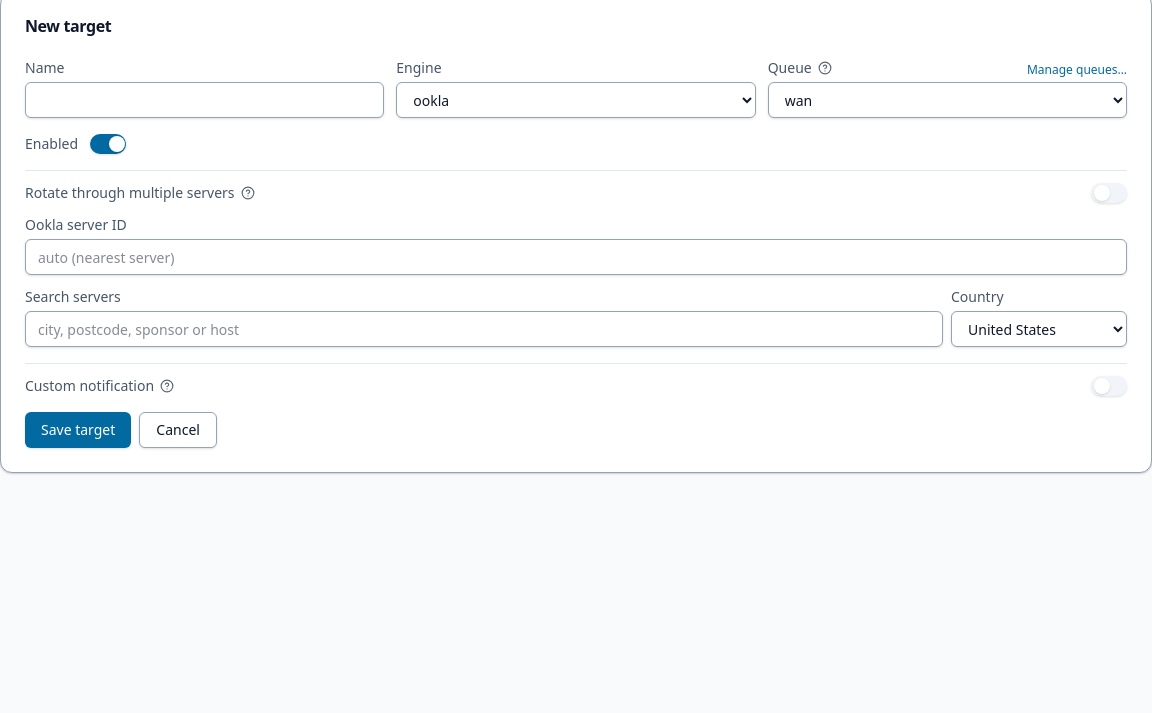
Test case: TargetForm › rejects a negative SLA plan override
Type "Home" into the field labelled "Name" at {"x": 205, "y": 100}, box x1=25 y1=82 x2=384 y2=118
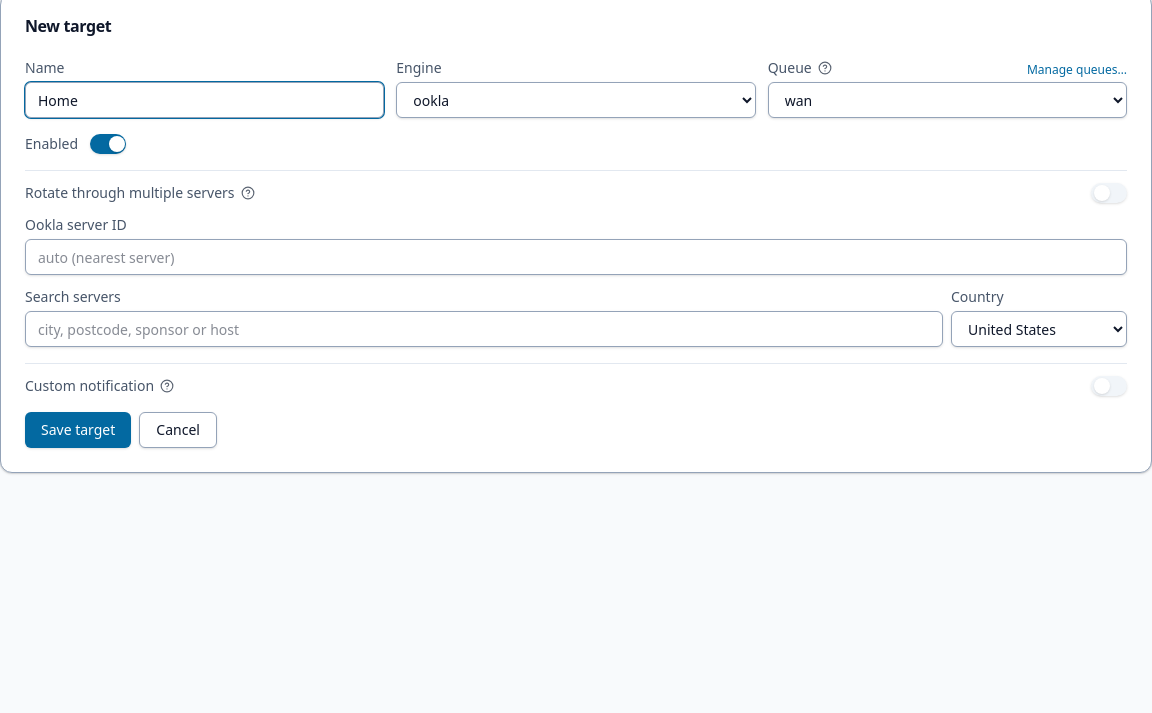
Click the switch named "Custom notification" in the row of "Custom notification" at {"x": 1109, "y": 386}, box x1=1091 y1=376 x2=1127 y2=396
(page scrolled)
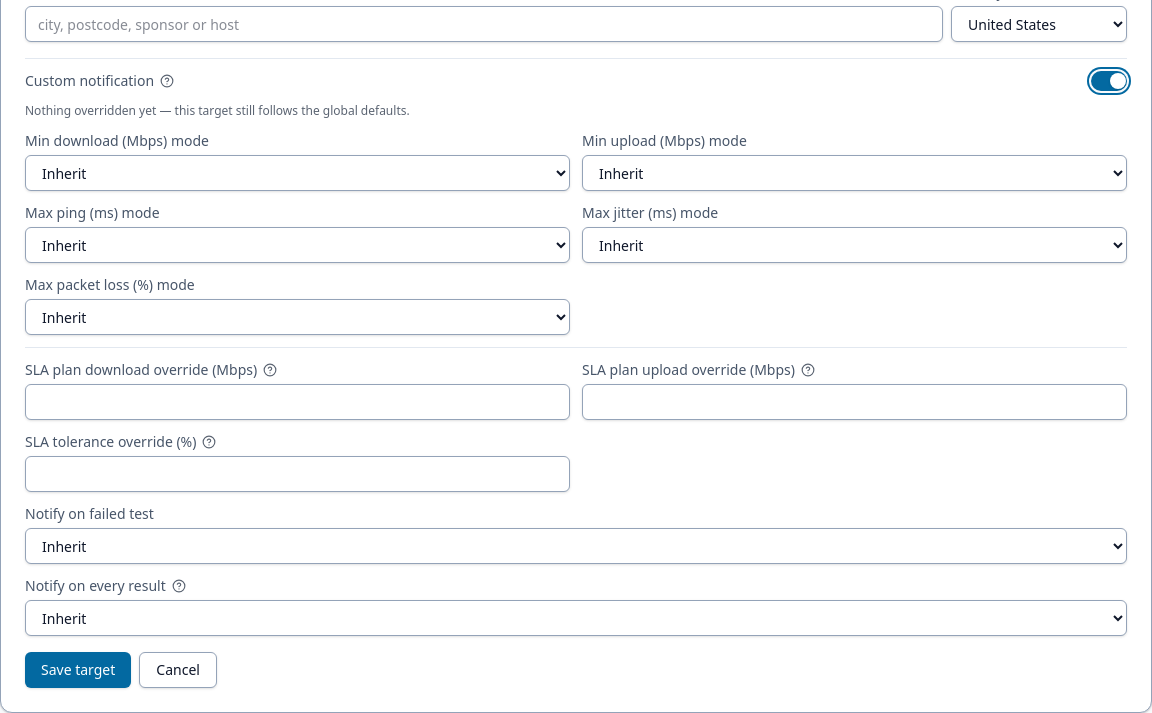
Type "-1" into the number field labelled "SLA plan upload override (Mbps)" at {"x": 854, "y": 402}, box x1=582 y1=384 x2=1127 y2=420
(page scrolled)
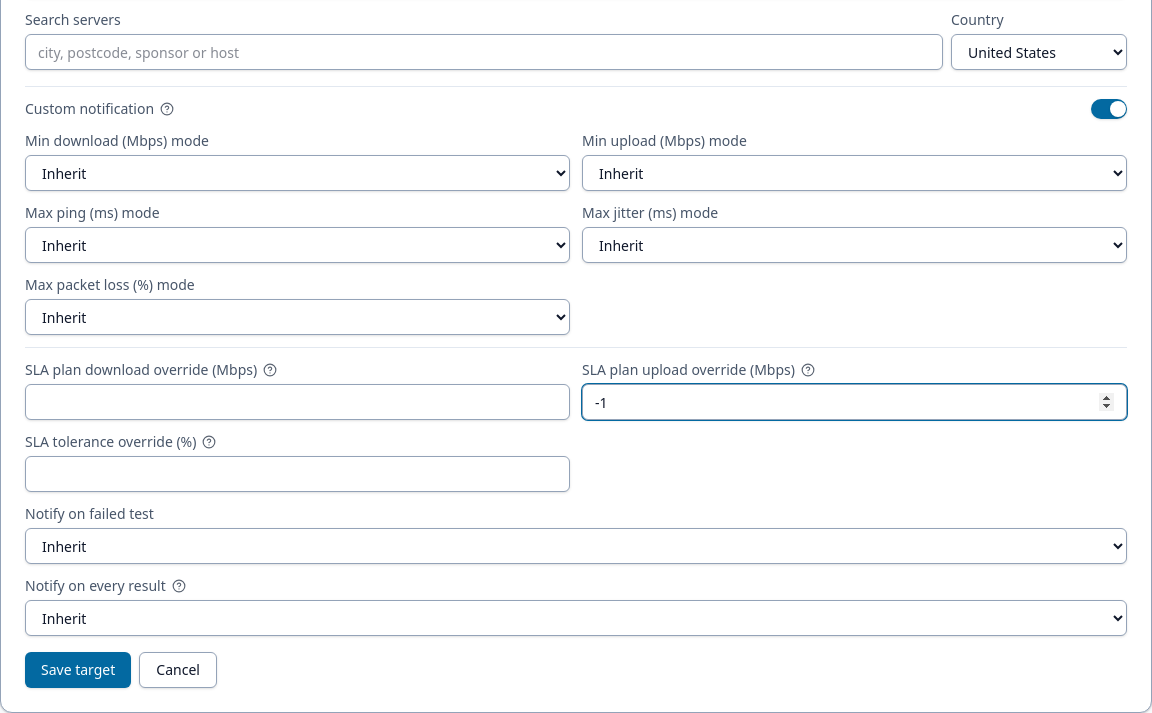
Click the button "Save target" at {"x": 78, "y": 670}, box x1=25 y1=652 x2=131 y2=688
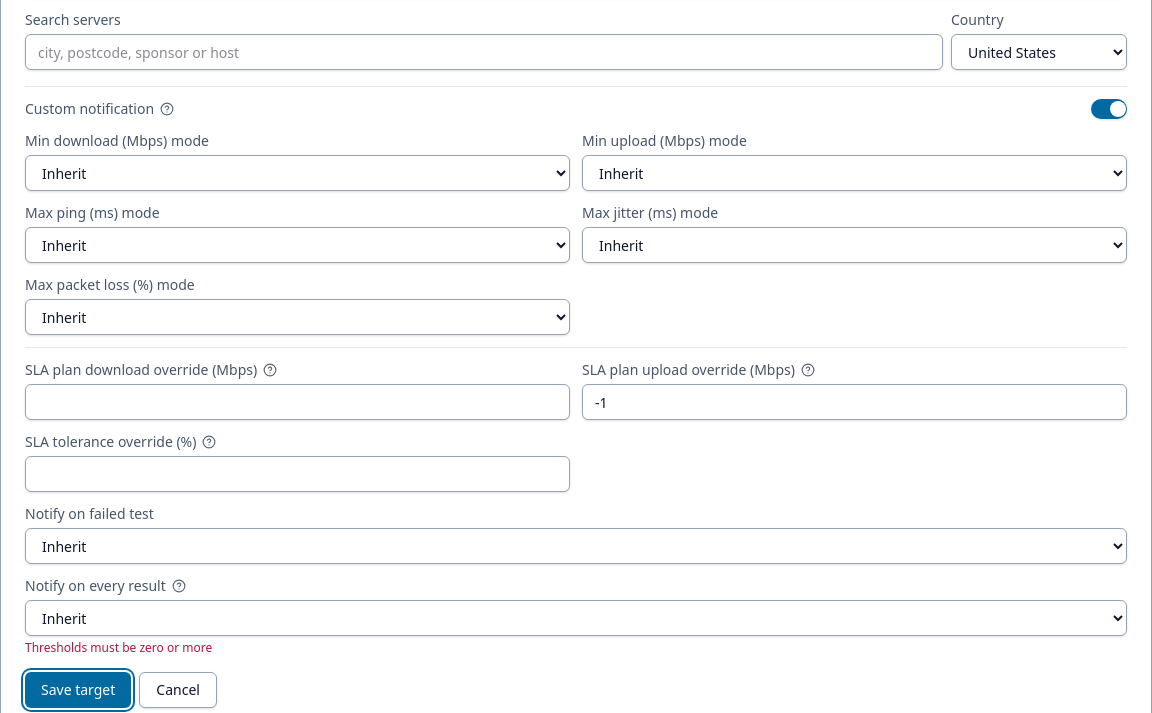
Now the text "Thresholds must be zero or more" is shown, box x1=25 y1=639 x2=212 y2=656
